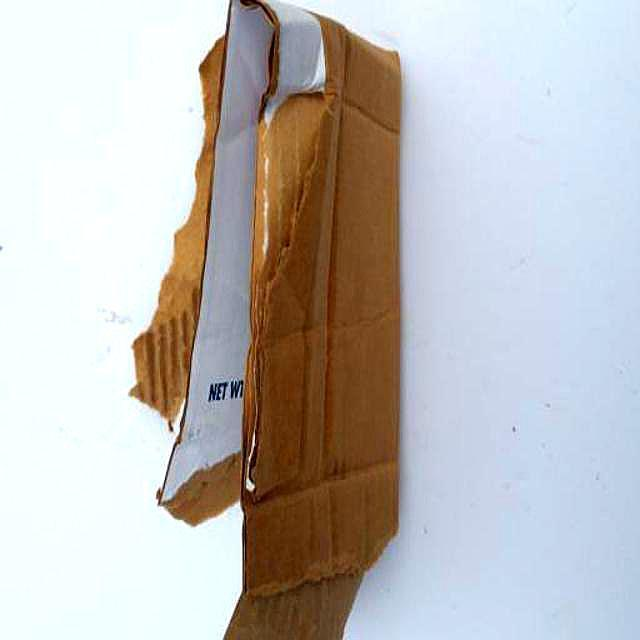Biodegradable: (121, 1, 411, 640)
